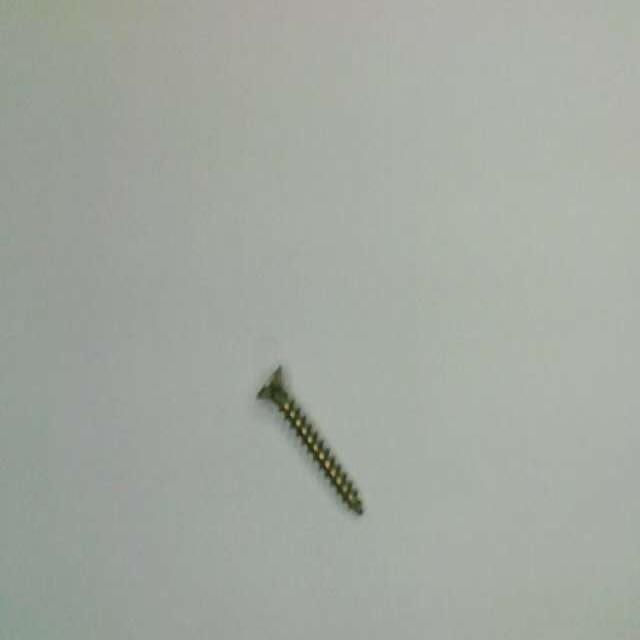Parafuso: (257, 367, 363, 513)
